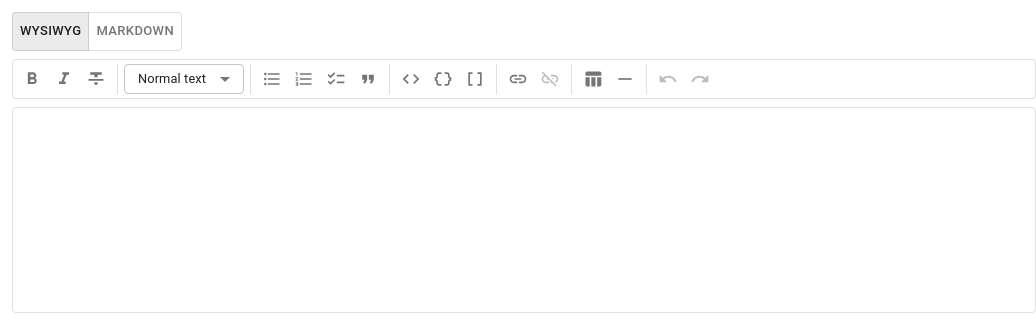
it: MarkdownPanelEditor › lists available variables in the Insert variable menu
Click the button named "Insert variable" at (475, 79), box top-left (460, 64), bottom-right (490, 94)
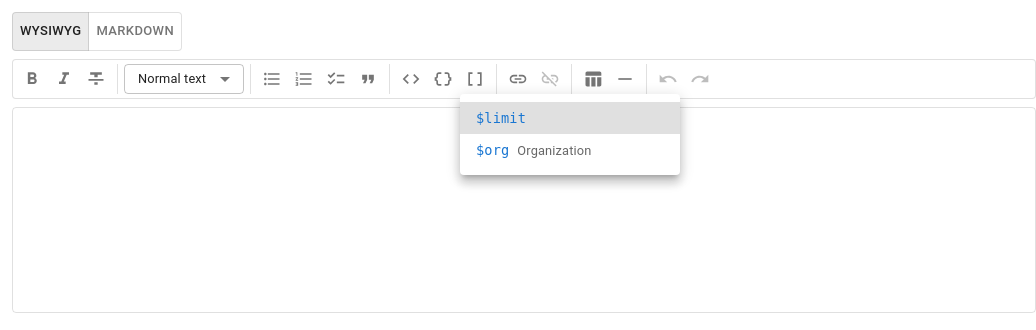
Check: the menu item "$limit" is shown, box top-left (460, 102), bottom-right (680, 134)
Check: the menu item "$org Organization" is shown, box top-left (476, 142), bottom-right (592, 158)
